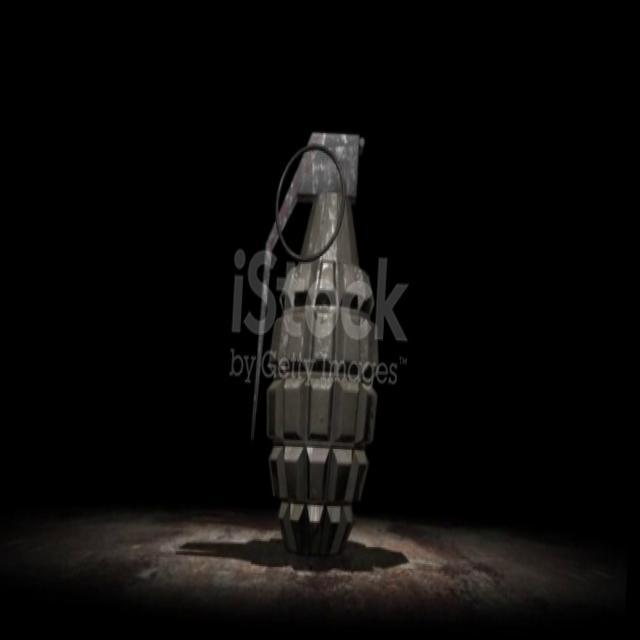grenade: (246, 118, 398, 560)
